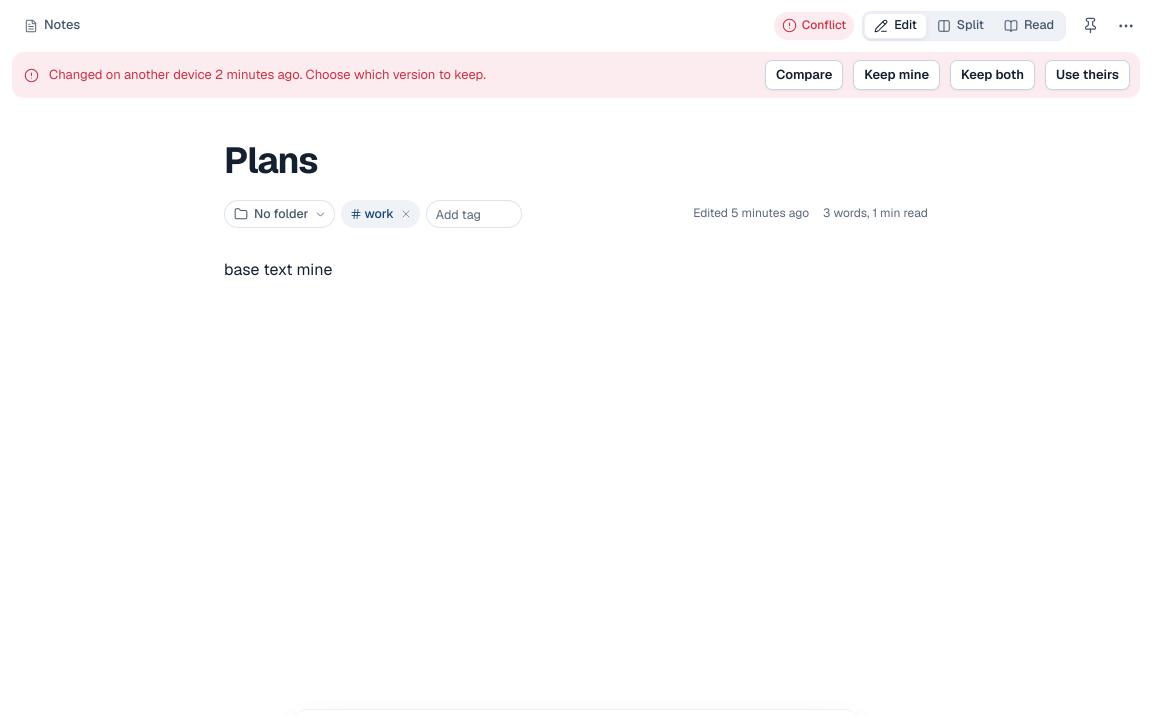
Test case: a conflict with another device › compares the two versions side by side in a dialog
Later steps or results of the test are not shown.
Click the button "Compare" at (804, 75), box [765, 60, 843, 90]
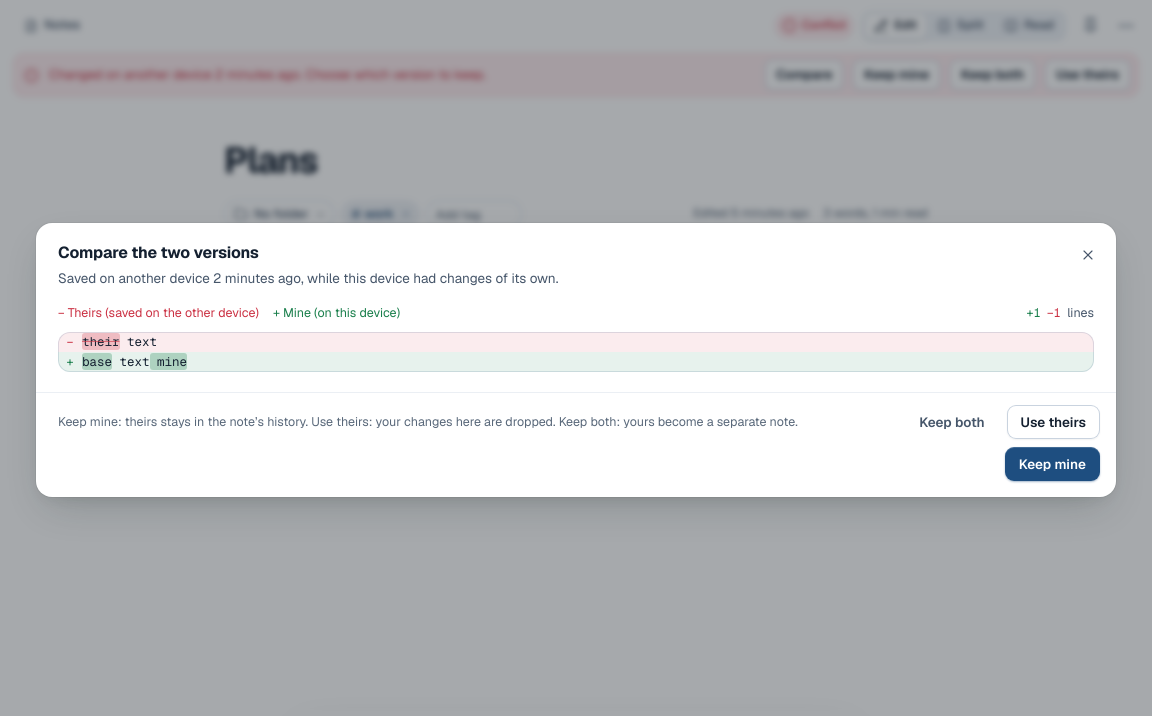
expect the dialog shows "Theirs (saved on the other device)": met, box [68, 304, 259, 321]
expect the dialog shows "Mine (on this device)": met, box [283, 304, 400, 321]
